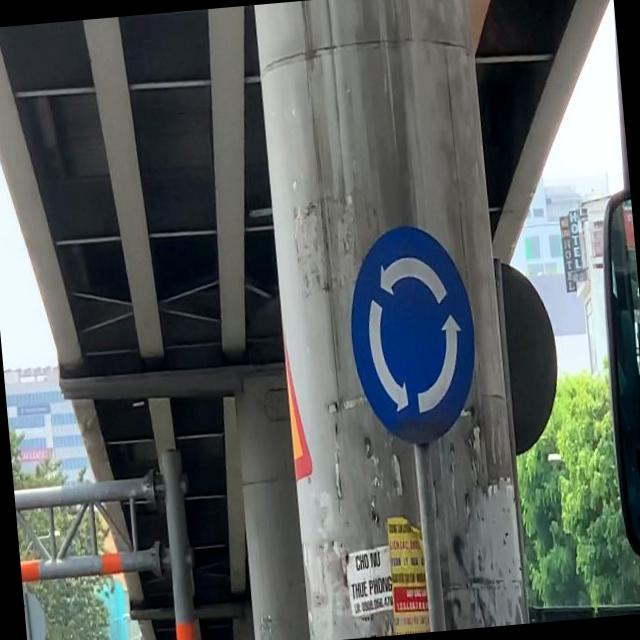R-303: (342, 220, 484, 448)
